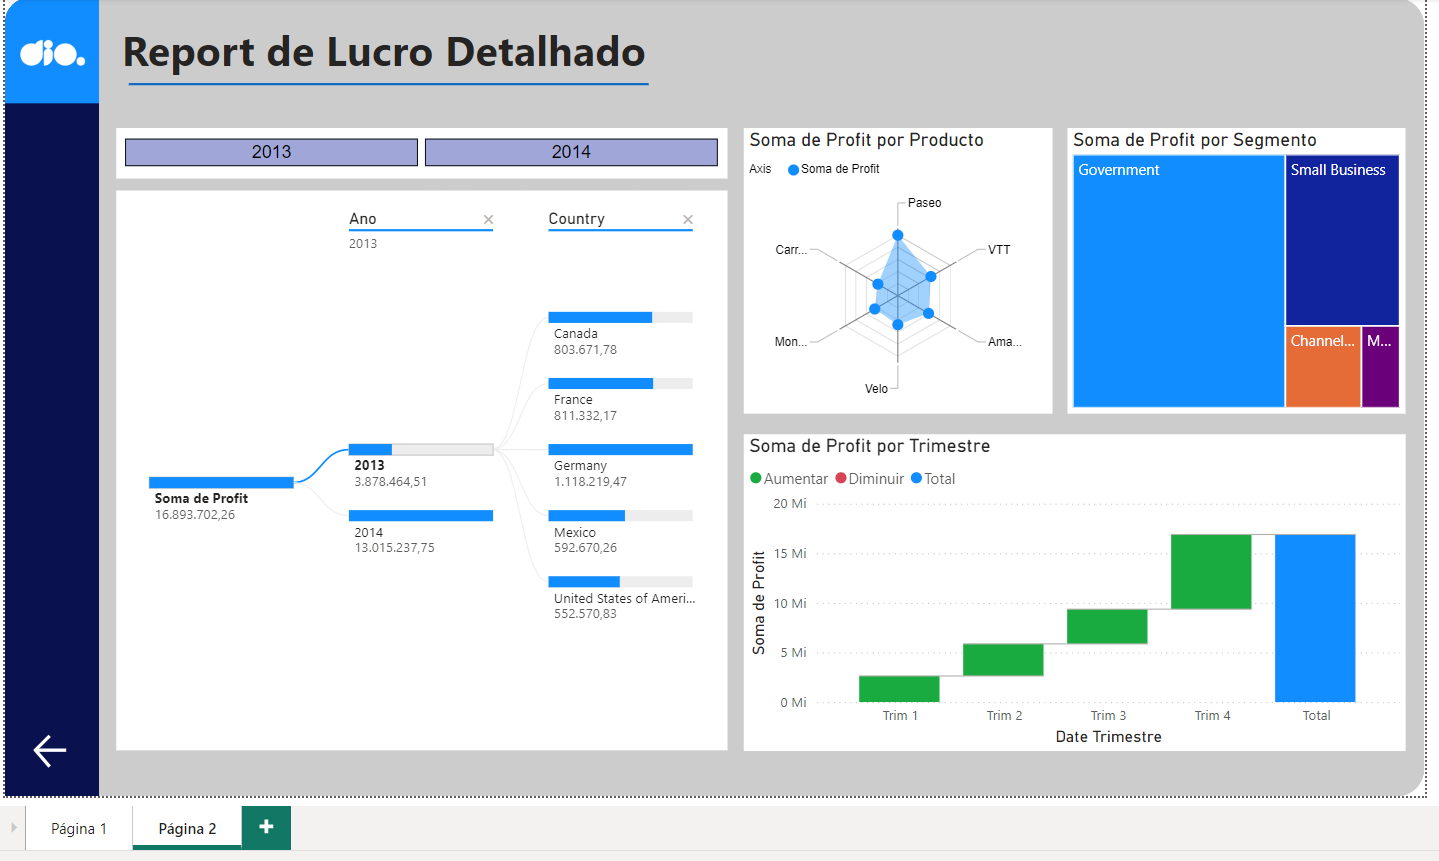

Layout of this report page (visuals, bound fields, positions):
{"tool":"powerbi","page":{"name":"Página 2","canvas":[1280,720],"ordinal":1},"visuals":[{"type":"shape","box":[0,0,1280,720],"z":0},{"type":"shape","box":[111,48.2,468.9,58.4],"z":0,"group":"g2"},{"type":"shape","box":[0,0,85.1,720],"z":1000,"group":"g1"},{"type":"textbox","box":[100.2,16.7,489.7,62.6],"z":1000,"group":"g2"},{"type":"RadarChart1446119667547","title":"Soma de Profit por Producto","fields":{"Category":["financials.Product"],"Y":["Sum(financials.Profit)"]},"box":[666.4,116.9,278.3,257.4],"z":1000},{"type":"shape","box":[0,0,85.1,95.3],"z":2000,"group":"g1"},{"type":"ChicletSlicer1448559807354","title":"Segmentador Ano","fields":{"Category":["financials.Date.Variation.Hierarquia de datas.Ano"],"Values":["Sum(financials.Profit)"]},"box":[100.2,116.9,551,45.9],"z":2000},{"type":"group","id":"g1","title":"Barra lateral","box":[0,0,85.1,720],"z":3000},{"type":"image","box":[8.5,8.5,68.1,80],"z":3000,"group":"g1"},{"type":"actionButton","title":"Pagina1","box":[21.1,659.1,42.2,39.7],"z":3500,"group":"g1"},{"type":"group","id":"g2","title":"Title Report","box":[100.2,16.7,489.7,90.4],"z":4000},{"type":"waterfallChart","fields":{"Category":["financials.Date.Variation.Hierarquia de datas.Trimestre"],"Y":["Sum(financials.Profit)"]},"box":[666.4,393.7,596.9,285.2],"z":5000},{"type":"treemap","title":"Soma de Profit por Segmento","fields":{"Values":["Sum(financials.Profit)"],"Group":["financials.Segment"]},"box":[958.6,116.9,304.7,257.4],"z":6000},{"type":"decompositionTreeVisual","fields":{"ExplainBy":["financials.Date.Variation.Hierarquia de datas.Ano","financials.Country"],"Analyze":["Sum(financials.Profit)"]},"box":[100.2,173.9,551,505],"z":7000}]}

Visuals, with their boxes in screenshot pixels (x1, y1, x2, y2):
shape: bbox=(0, 41, 1419, 839)
shape: bbox=(123, 95, 643, 159)
shape: bbox=(0, 41, 94, 839)
textbox: bbox=(111, 60, 654, 129)
"Soma de Profit por Producto" RadarChart1446119667547: bbox=(739, 171, 1047, 456)
shape: bbox=(0, 41, 94, 147)
"Segmentador Ano" ChicletSlicer1448559807354: bbox=(111, 171, 722, 222)
"Barra lateral" group: bbox=(0, 41, 94, 839)
image: bbox=(9, 51, 85, 139)
"Pagina1" actionButton: bbox=(23, 772, 70, 816)
"Title Report" group: bbox=(111, 60, 654, 160)
waterfallChart - financials.Date.Variation.Hierarquia de datas.Trimestre x Sum(financials.Profit): bbox=(739, 478, 1401, 794)
"Soma de Profit por Segmento" treemap: bbox=(1063, 171, 1401, 456)
decompositionTreeVisual - financials.Date.Variation.Hierarquia de datas.Ano x financials.Country: bbox=(111, 234, 722, 794)
